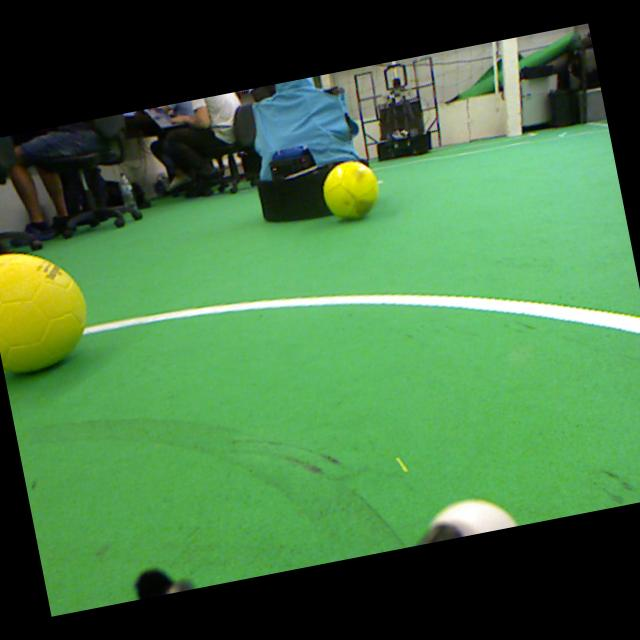ball: (0, 253, 87, 374), (323, 161, 379, 220)
goal: (503, 37, 522, 137)
robot: (378, 65, 429, 160)
